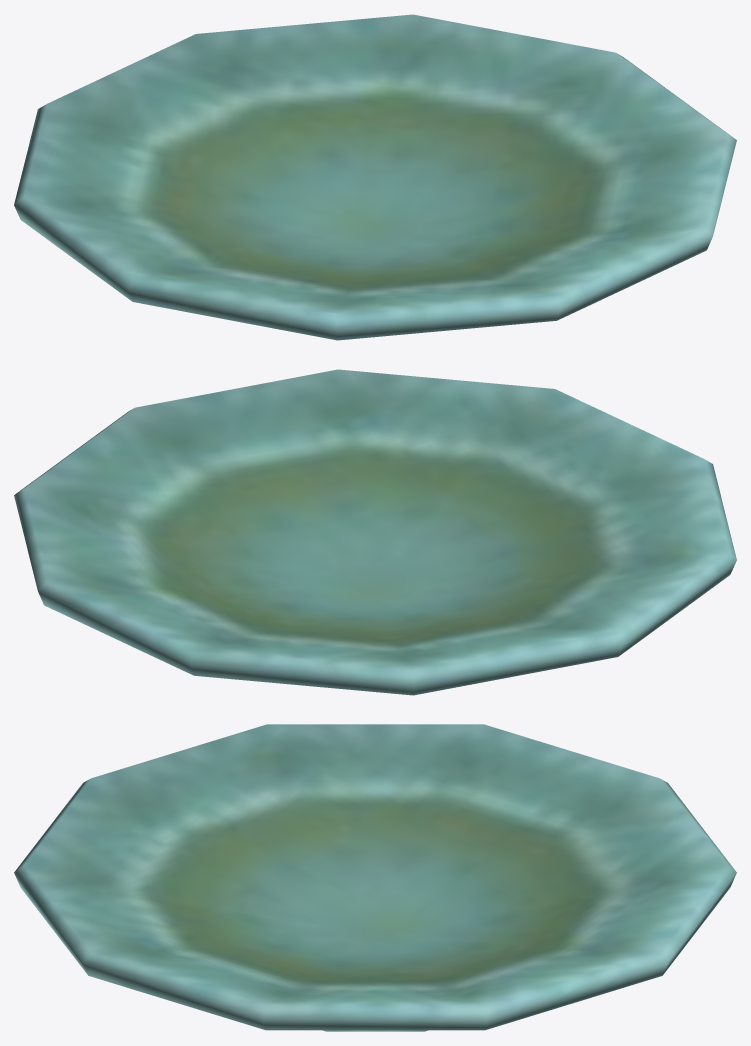
Rendered from t4_platter_crystal.glb.
The picture shows the model from 3 angles, top to bottom: view 1: azimuth 30°, elevation 25°; view 2: azimuth 150°, elevation 25°; view 3: azimuth 270°, elevation 25°; orthographic projection. The views are drawn at different scales.
Visible parts, largest first — view 1: kitchen_props_craftable_platter_crystal_01; view 2: kitchen_props_craftable_platter_crystal_01; view 3: kitchen_props_craftable_platter_crystal_01.
Part boxes in pixels (<box>): kitchen_props_craftable_platter_crystal_01: <box>14,14,736,340</box>; kitchen_props_craftable_platter_crystal_01: <box>14,369,736,695</box>; kitchen_props_craftable_platter_crystal_01: <box>14,724,736,1031</box>.
Size of the model in its own units: 0.5928 by 0.0968 by 0.6234.
1 material, 1 textured.
